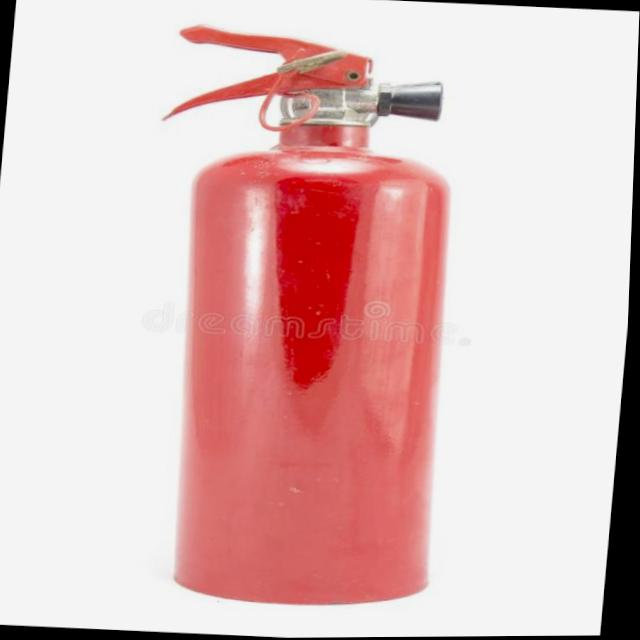FireExtinguisher: (114, 14, 492, 620)
